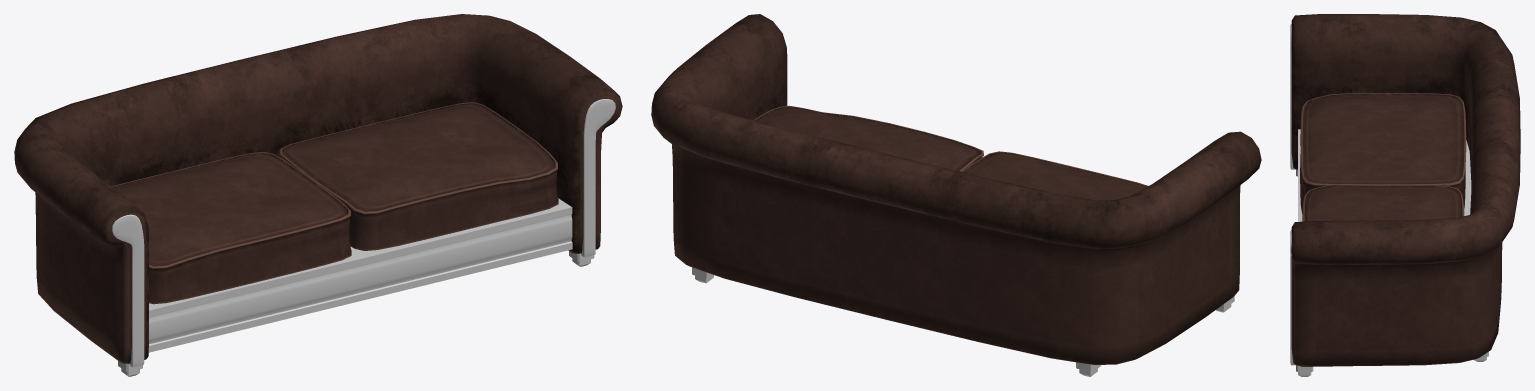
File: Sofa_AA.fbx
The picture shows the model from 3 angles, left to right: view 1: azimuth 30°, elevation 25°; view 2: azimuth 150°, elevation 25°; view 3: azimuth 270°, elevation 25°; orthographic projection. The views are drawn at different scales.
Visible parts, largest first — view 1: Sofa, Pillows, Sofa_Bottom; view 2: Sofa, Pillows, Sofa_Bottom; view 3: Sofa, Pillows, Sofa_Bottom.
Part boxes in pixels (x1=…): Sofa: x1=14, y1=14, x2=622, y2=363; Pillows: x1=112, y1=102, x2=558, y2=304; Sofa_Bottom: x1=112, y1=99, x2=615, y2=376; Sofa: x1=651, y1=14, x2=1261, y2=364; Pillows: x1=754, y1=105, x2=1148, y2=200; Sofa_Bottom: x1=692, y1=267, x2=1234, y2=376; Sofa: x1=1291, y1=14, x2=1520, y2=366; Pillows: x1=1300, y1=93, x2=1466, y2=221; Sofa_Bottom: x1=1290, y1=24, x2=1488, y2=376.
Bounding box in the file's own units: 3.28 × 1.41 × 1.07.
